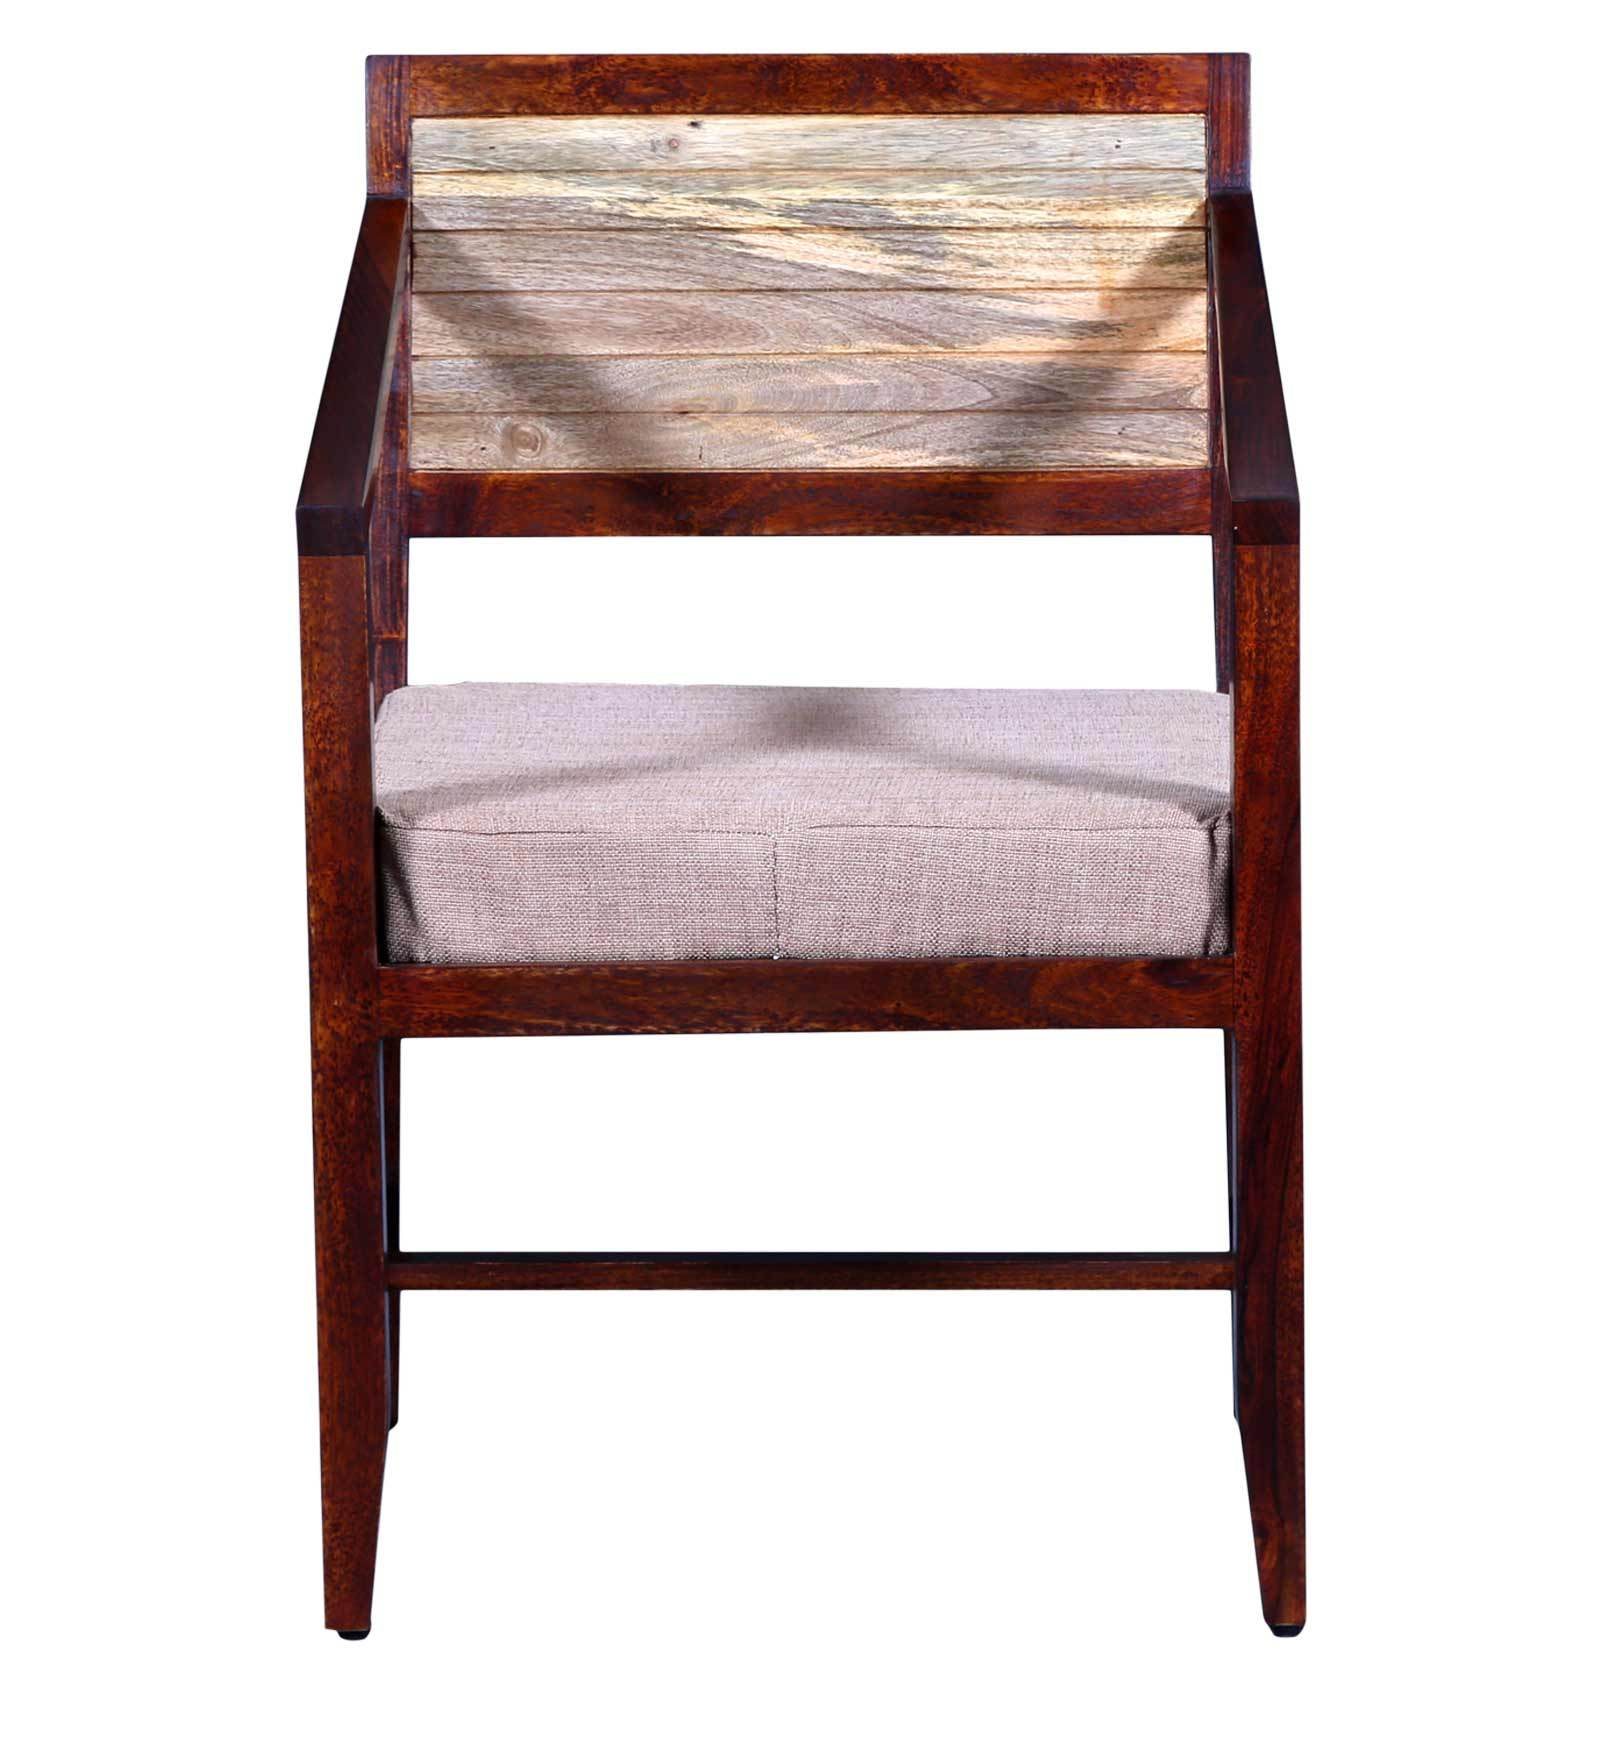Anitz Arm Chair in Dual Tone Finish by Woodsworth: (254, 26, 1346, 1682)
